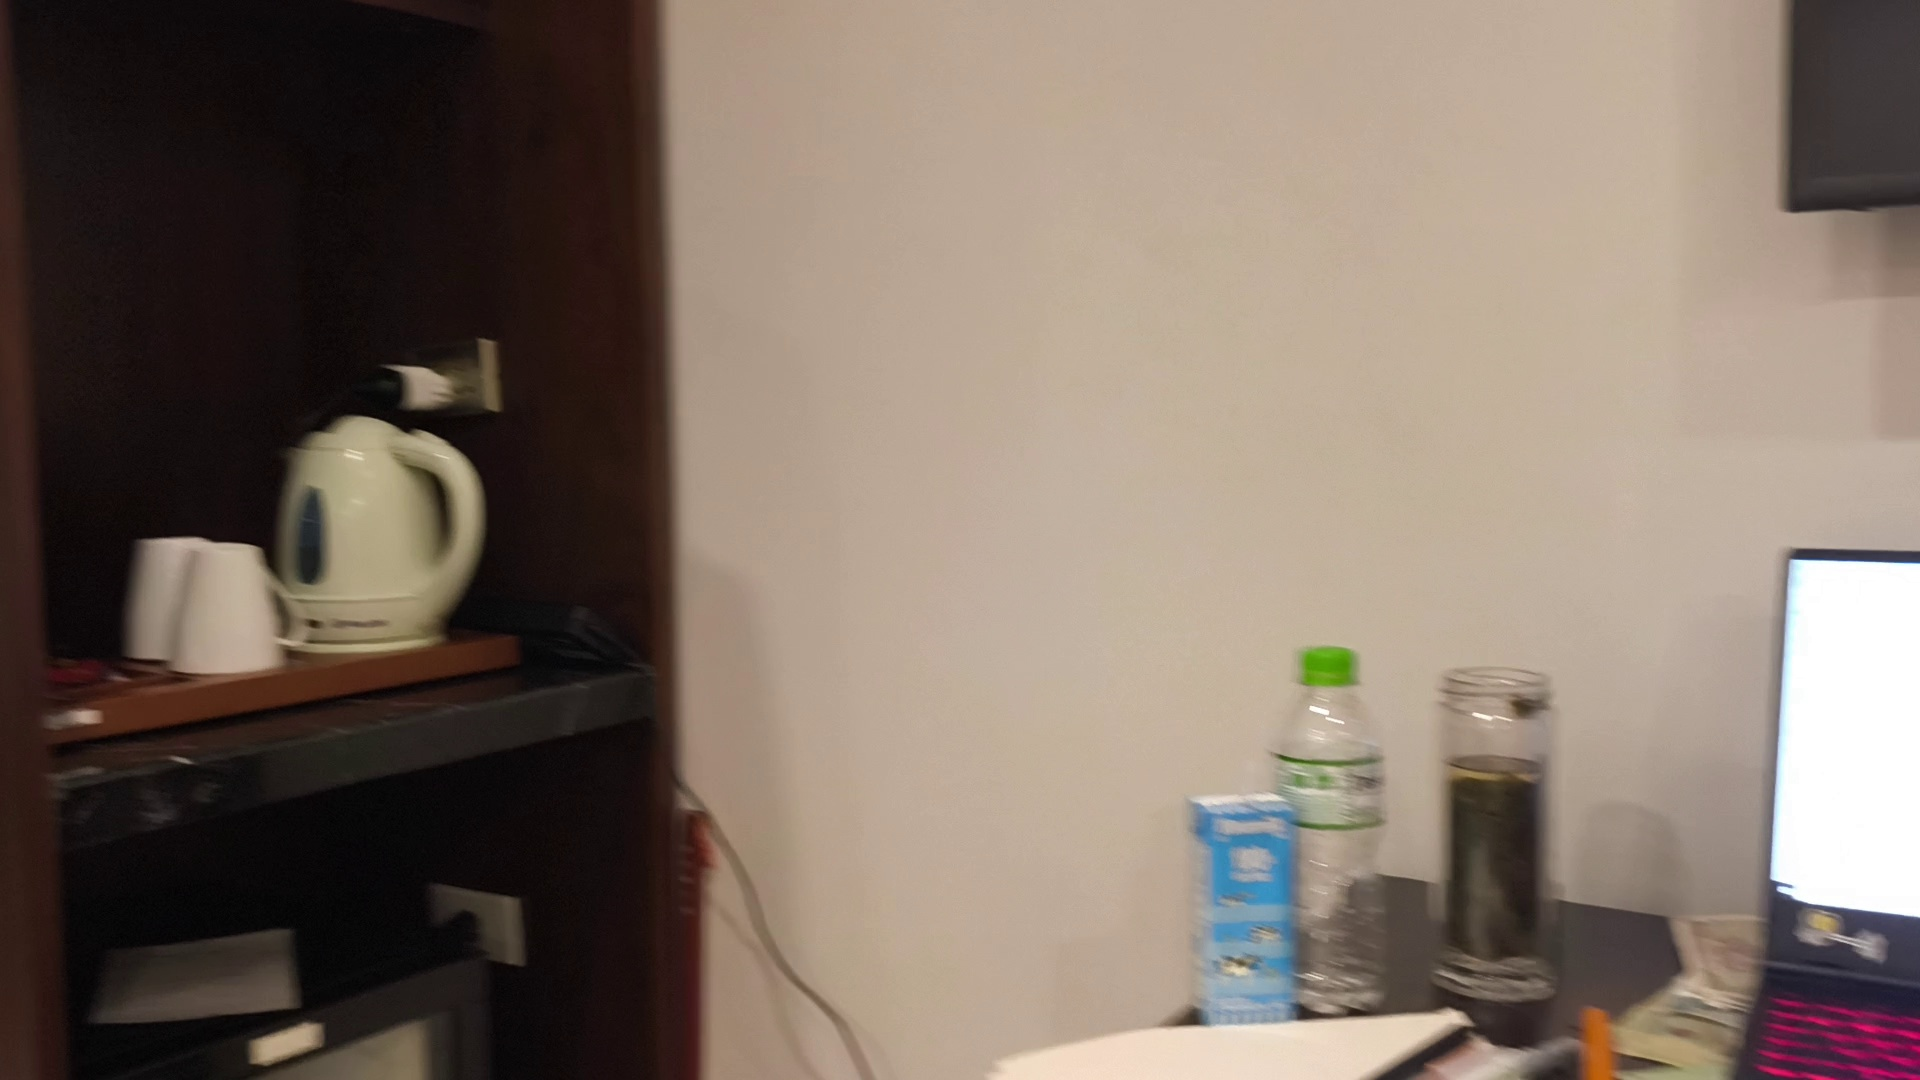bolibei: (1433, 657, 1564, 1004)
bottle: (1278, 635, 1395, 1010)
cpu: (146, 539, 285, 668)
cup: (295, 430, 466, 646)
dianxian: (366, 345, 459, 423)
milk: (1194, 793, 1301, 1023)
